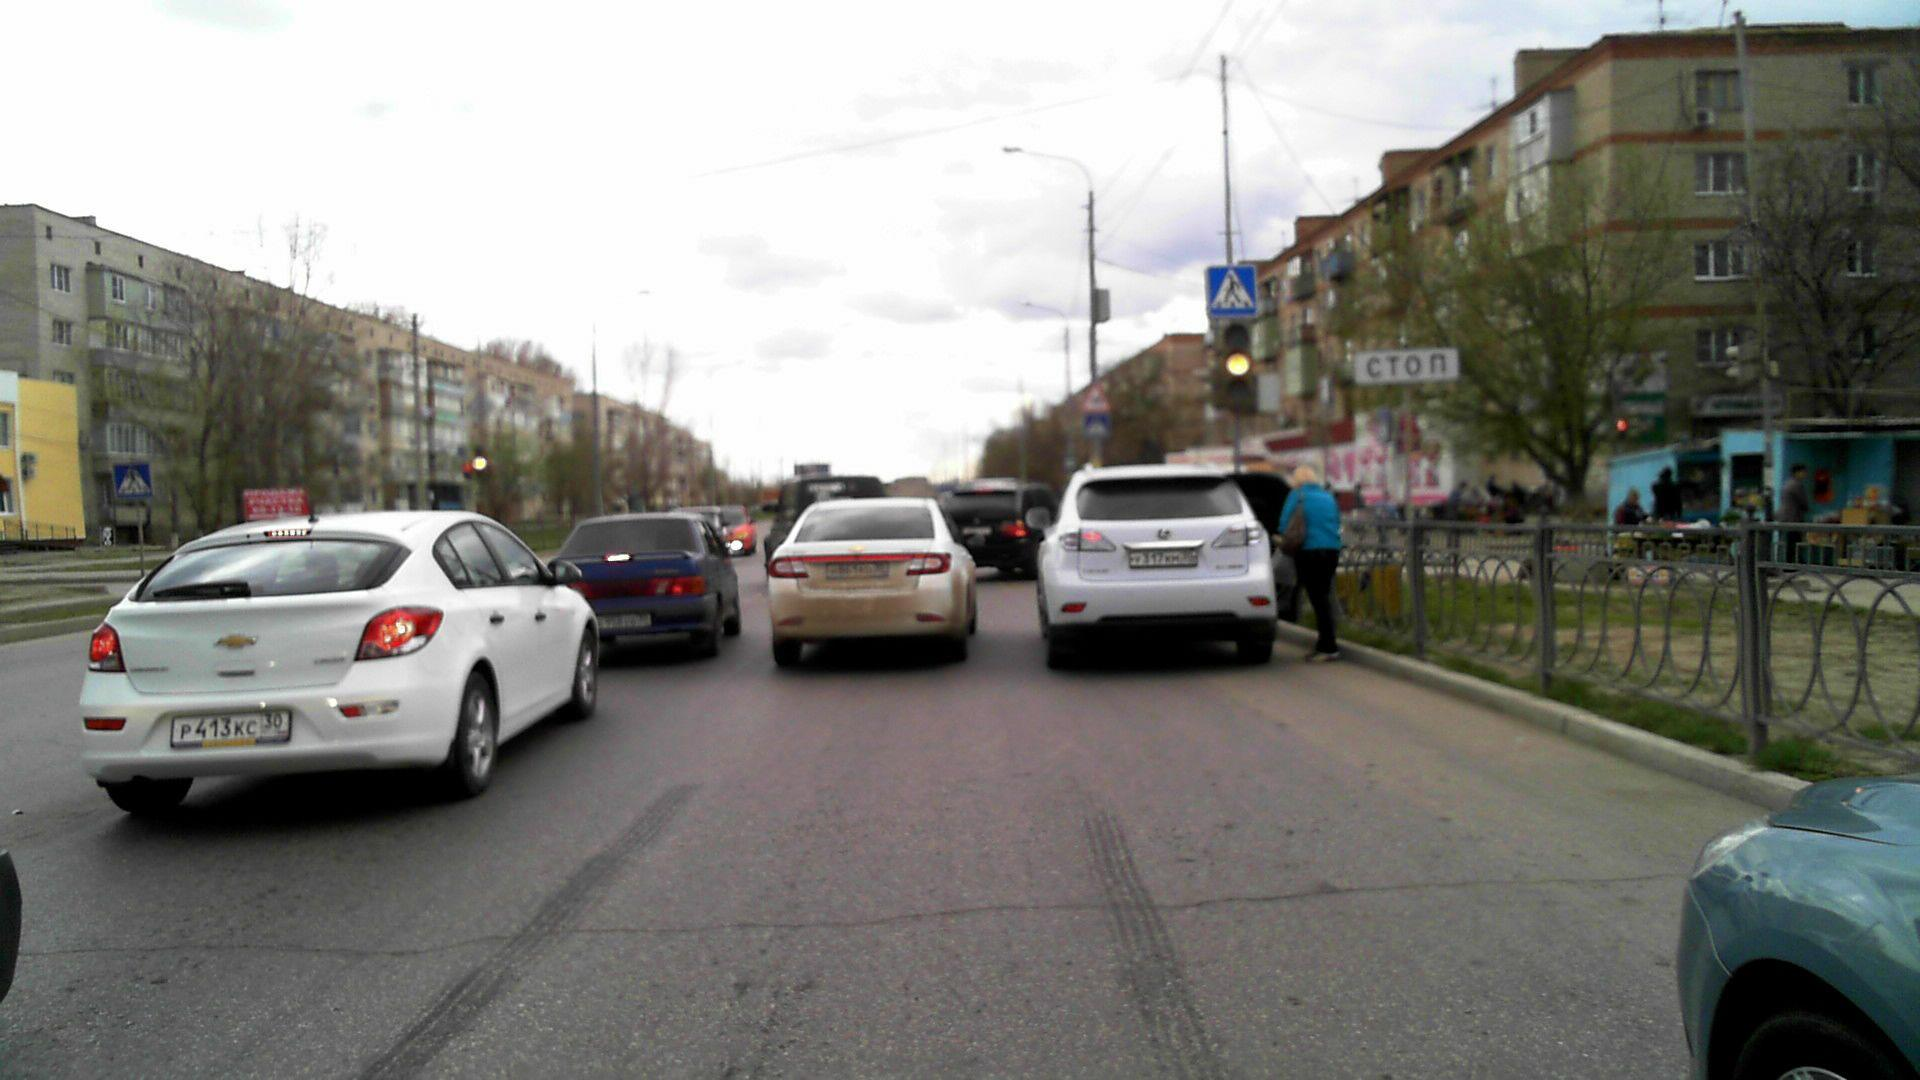1_23: (1083, 380, 1112, 413)
5_19_1: (1205, 265, 1262, 318), (1084, 413, 1114, 440)
5_19_2: (112, 462, 154, 500)
6_16: (1352, 348, 1458, 382)
